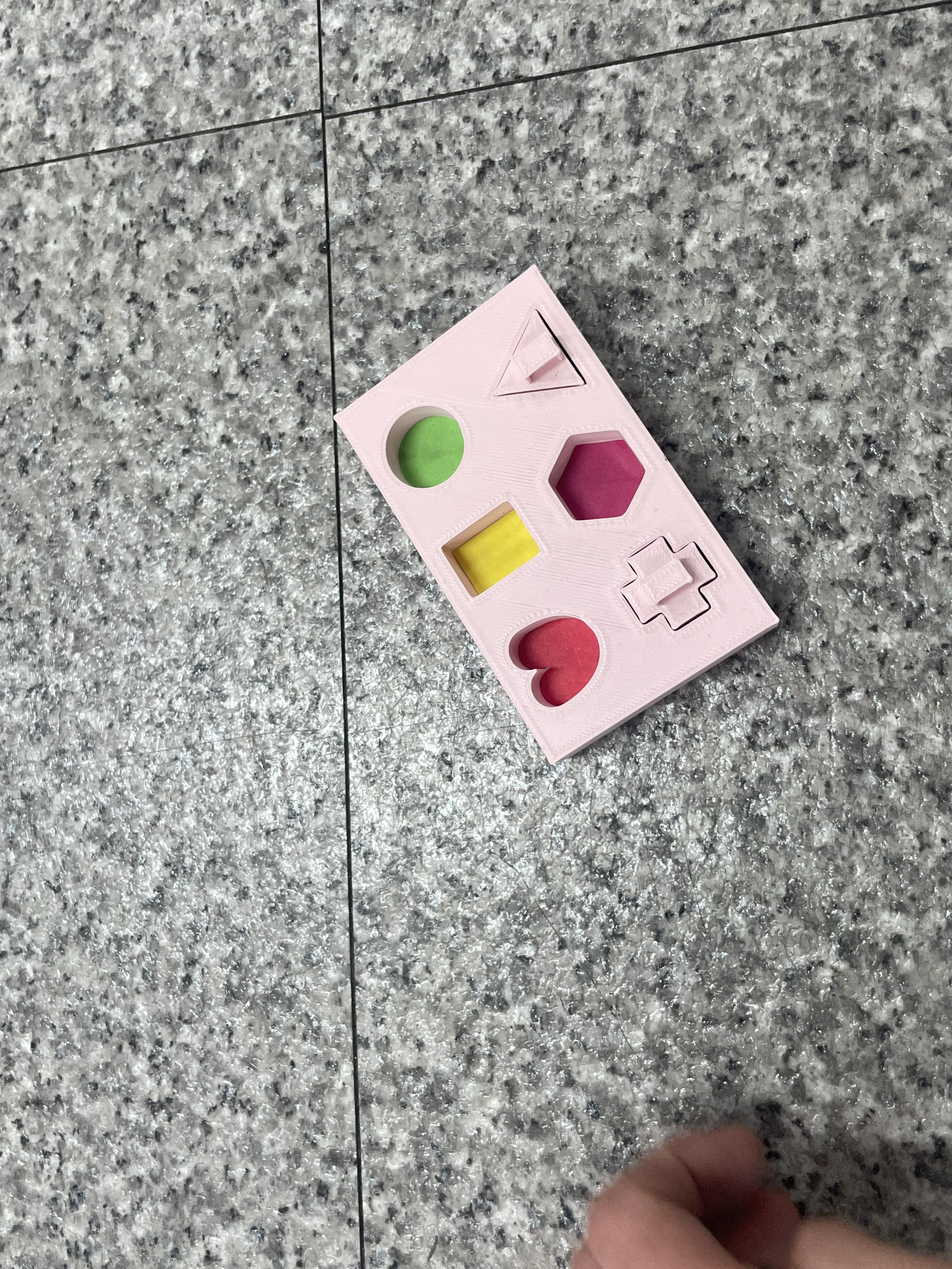unsolved: (321, 252, 810, 787)
